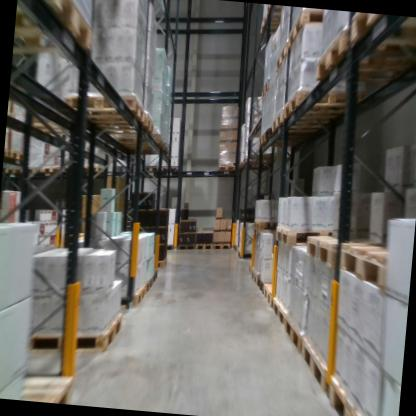pallet: (313, 28, 416, 92), (14, 0, 100, 65), (22, 307, 124, 360), (334, 233, 399, 294), (282, 84, 362, 131), (272, 104, 363, 145), (60, 88, 147, 126), (344, 13, 416, 56), (323, 370, 381, 416), (75, 106, 160, 137), (293, 331, 329, 402), (274, 217, 339, 252), (287, 9, 333, 57), (14, 373, 79, 402), (304, 233, 349, 270), (259, 130, 315, 156), (262, 122, 316, 147), (281, 307, 307, 354), (109, 135, 171, 153), (113, 139, 172, 156), (242, 152, 280, 174), (118, 282, 145, 311), (259, 14, 290, 39), (269, 296, 289, 332), (250, 218, 280, 238), (273, 38, 289, 74), (263, 5, 289, 23), (75, 164, 103, 180), (159, 163, 181, 181), (41, 161, 63, 179), (262, 281, 277, 306), (195, 239, 216, 255), (211, 238, 233, 253), (255, 271, 268, 296), (6, 162, 26, 178), (144, 273, 154, 299), (216, 163, 237, 175), (24, 165, 42, 179), (260, 77, 271, 99), (175, 242, 196, 253), (249, 267, 260, 287), (142, 168, 160, 179), (9, 151, 27, 162), (237, 247, 250, 260), (151, 269, 160, 287), (157, 256, 169, 269), (168, 241, 176, 251), (247, 262, 253, 275)
